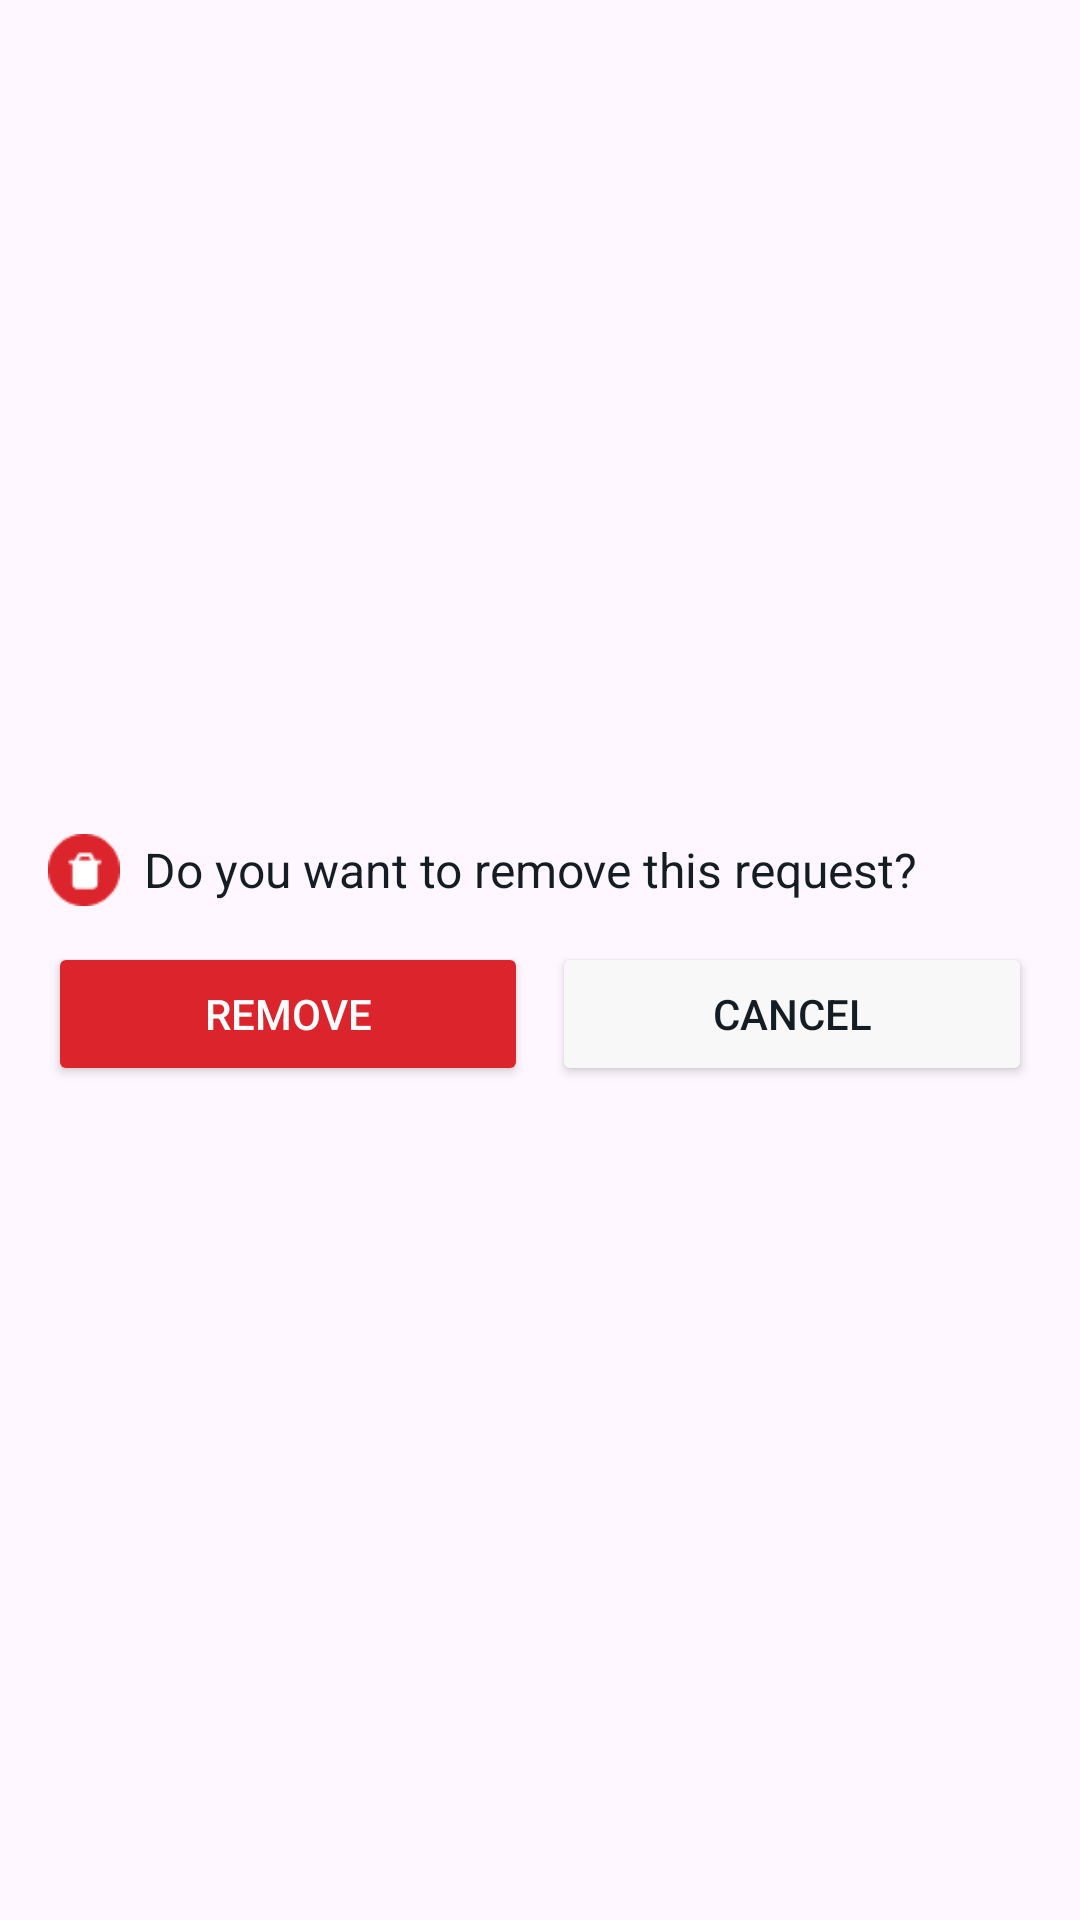

Icon click points for this 1080px×1920px phone screenshot, format [x,y]:
delete: [84,870]
